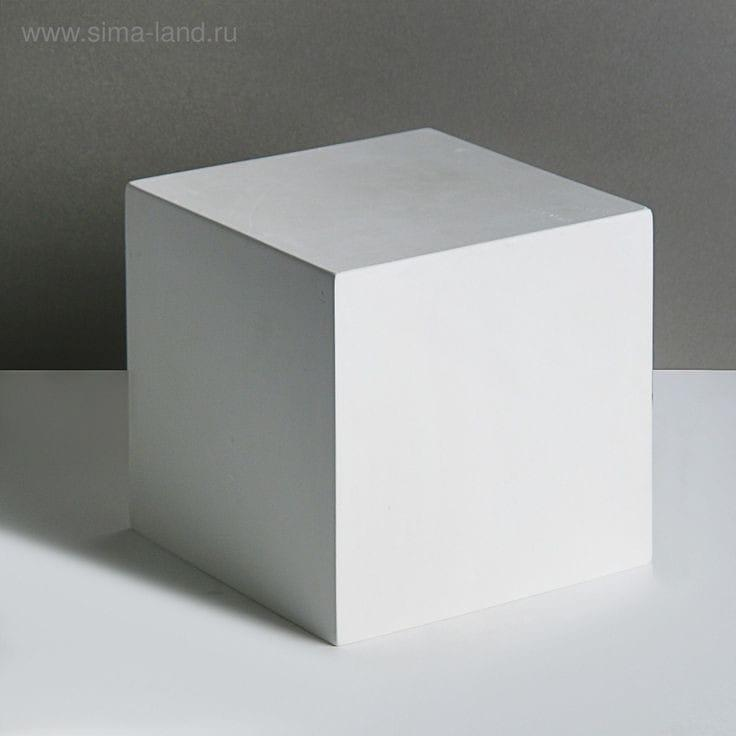cubos: (113, 120, 675, 658)
